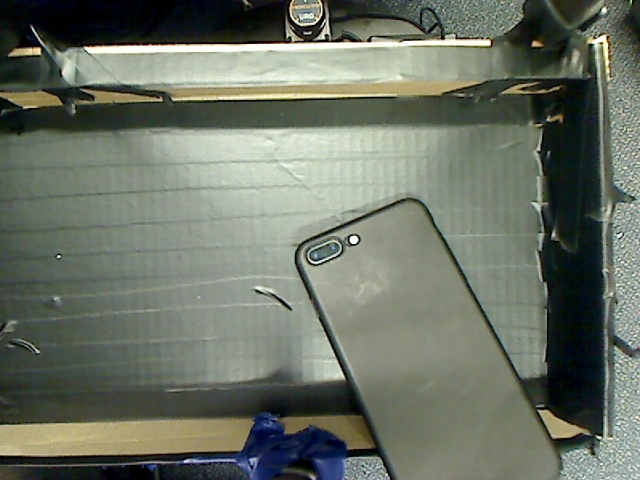phone: (272, 194, 567, 480)
